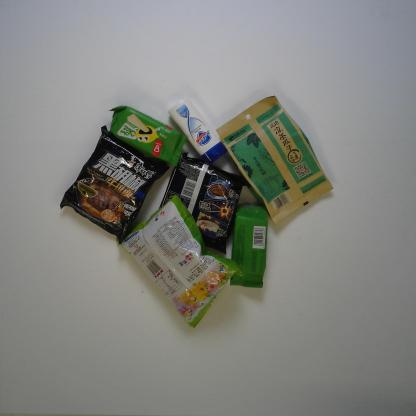Dessert: (108, 104, 188, 168), (228, 202, 269, 289)
Dried Food: (214, 94, 335, 225)
Instant Noodles: (58, 124, 170, 248), (158, 150, 251, 256)
Personal Hygiene: (167, 96, 228, 166)
Puffed Food: (115, 194, 244, 330)
